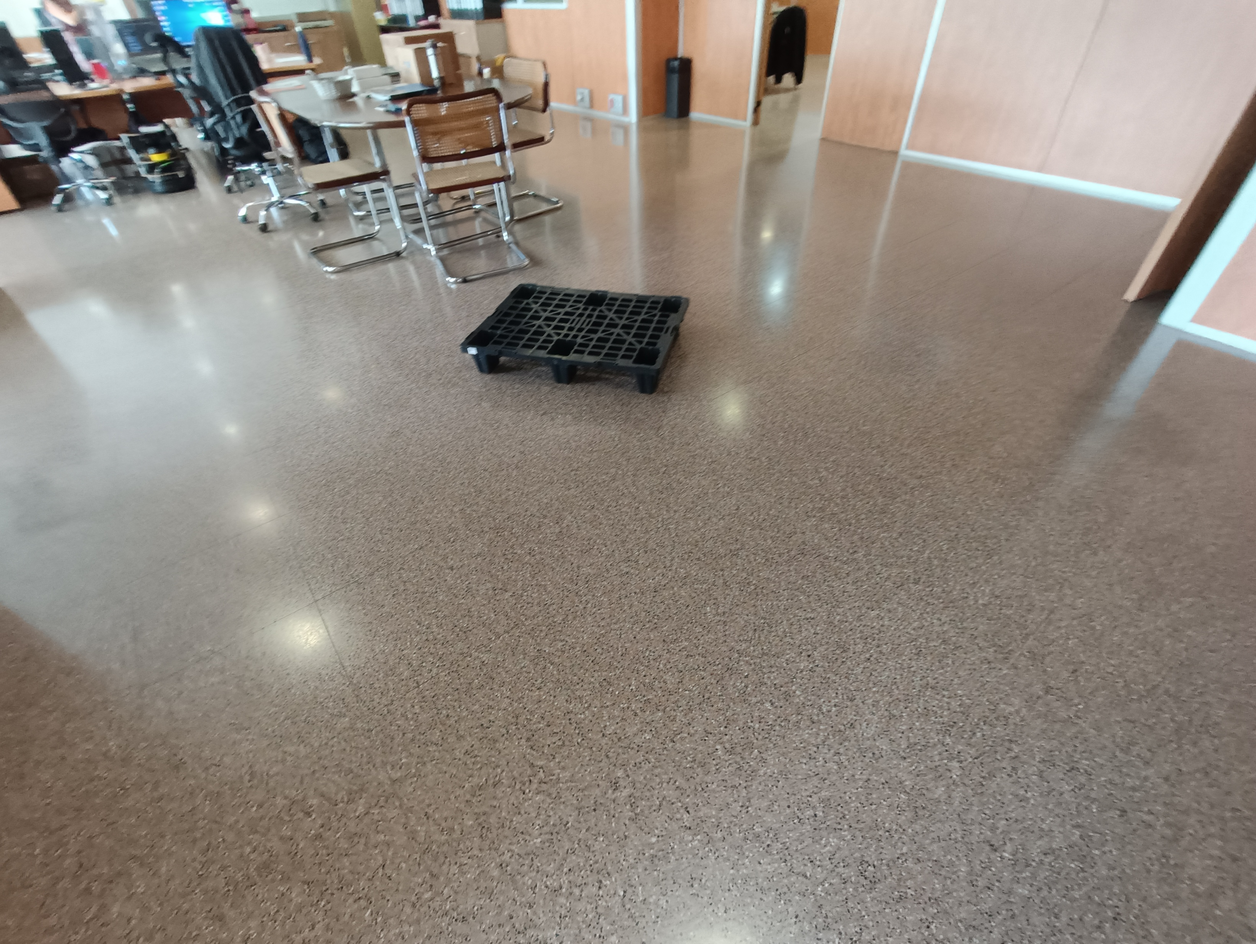block: (471, 348, 499, 376), (636, 367, 660, 394), (551, 362, 574, 387)
front: (460, 346, 661, 397)
hole pallet: (494, 352, 555, 382), (575, 368, 637, 391)
